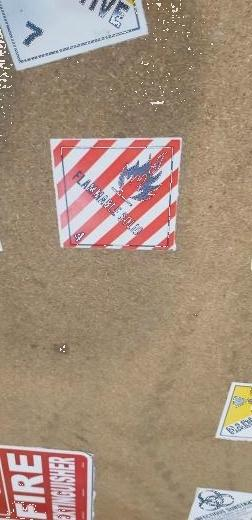flammable-solid: (54, 136, 182, 247)
infectious-substance: (190, 487, 251, 519)
radioactive: (214, 381, 251, 440)
